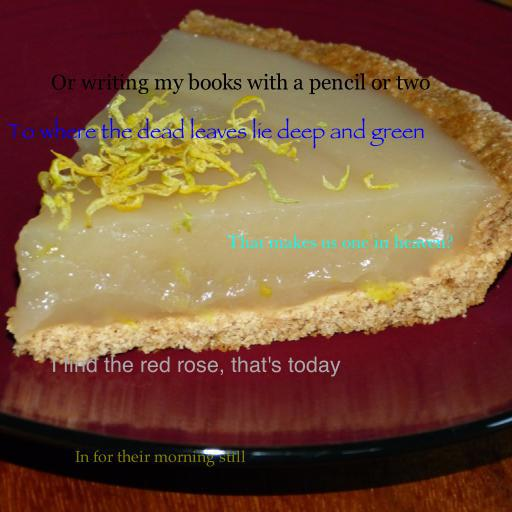Baskerville: (227, 235, 453, 249)
Georgia: (50, 73, 430, 95)
Helvetica: (51, 356, 341, 377)
Palatino: (74, 449, 246, 467)
Papyrus: (7, 117, 425, 149)
